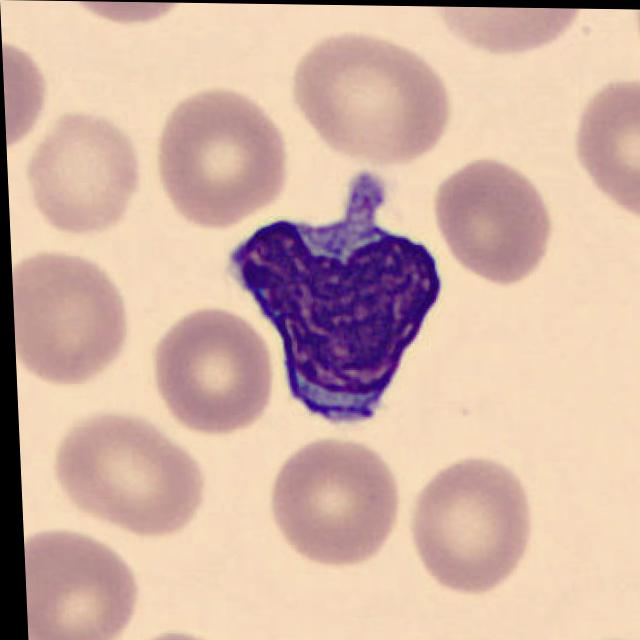lymphocyte: (228, 202, 459, 426)
rbc: (270, 436, 401, 567), (27, 112, 150, 240), (163, 98, 282, 226), (301, 45, 444, 150), (411, 459, 532, 583), (153, 317, 277, 435), (63, 425, 201, 524), (12, 268, 127, 385), (441, 165, 547, 279), (24, 547, 136, 640), (439, 7, 586, 61), (579, 87, 640, 214), (2, 47, 41, 154), (61, 1, 173, 32)
